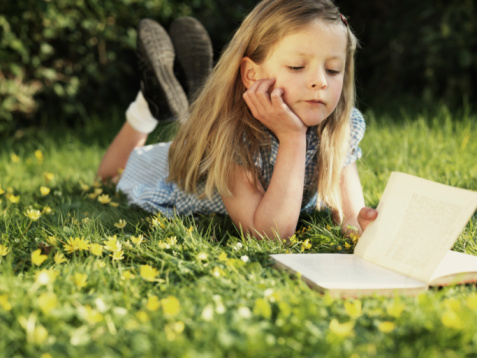deitado: (178, 0, 398, 262)
